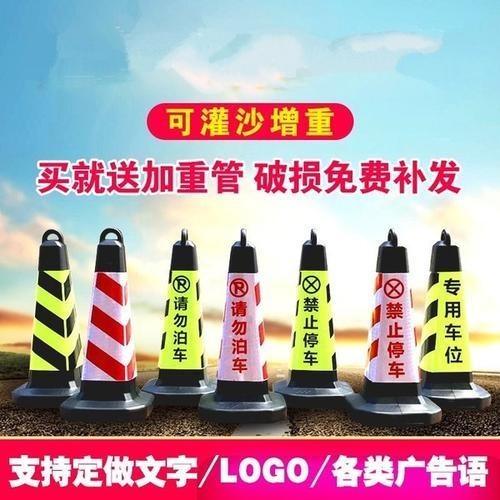cone_barrel: (65, 228, 149, 419), (203, 232, 279, 427), (12, 232, 87, 406), (413, 232, 486, 408), (359, 228, 425, 405), (280, 231, 346, 401), (147, 230, 213, 396)
